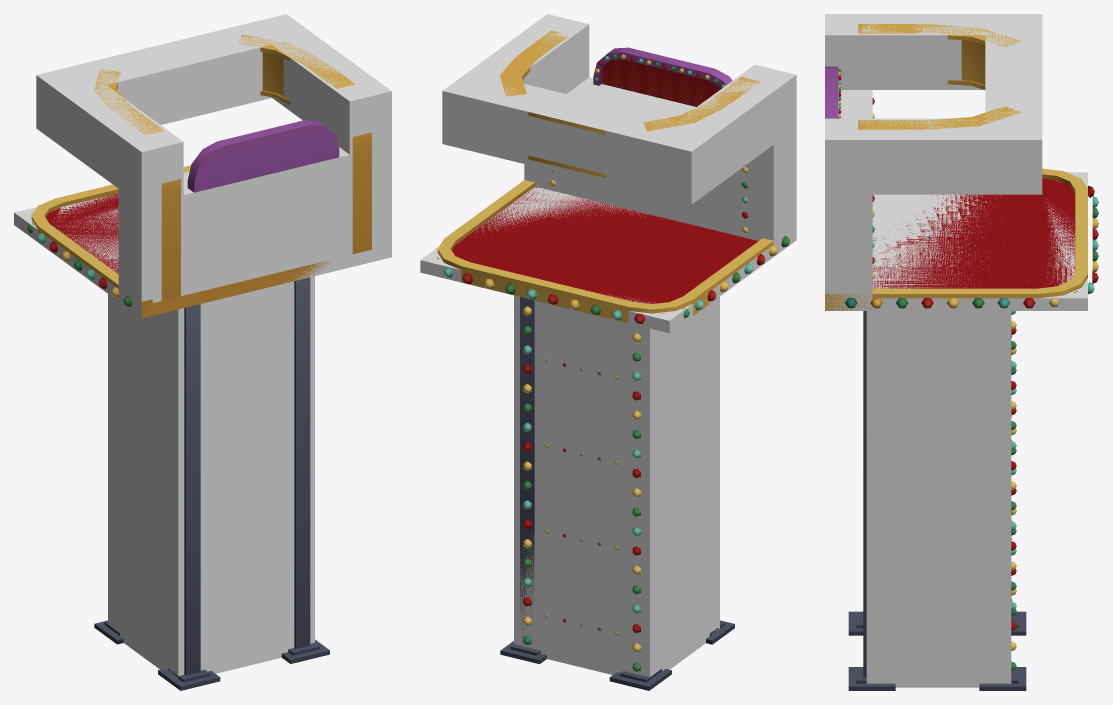
The model's file is squidgame_props_tower2.fbx.
3 renders of one model, left to right at view 1: azimuth 30°, elevation 25°; view 2: azimuth 150°, elevation 25°; view 3: azimuth 270°, elevation 25°, orthographic. The views are drawn at different scales.
Parts seen in each view (by area): view 1: squidgame_props_tower2_col, squidgame_props_tower2, squidgame_props_tower2_light; view 2: squidgame_props_tower2_col, squidgame_props_tower2, squidgame_props_tower2_light; view 3: squidgame_props_tower2_col, squidgame_props_tower2, squidgame_props_tower2_light.
Boxes of the visible parts, bbox=[...] form: squidgame_props_tower2_col: bbox=[14, 14, 391, 678]; squidgame_props_tower2: bbox=[31, 34, 371, 690]; squidgame_props_tower2_light: bbox=[27, 213, 131, 306]; squidgame_props_tower2_col: bbox=[420, 14, 796, 677]; squidgame_props_tower2: bbox=[437, 30, 773, 690]; squidgame_props_tower2_light: bbox=[435, 54, 789, 671]; squidgame_props_tower2_col: bbox=[825, 14, 1087, 687]; squidgame_props_tower2: bbox=[825, 24, 1087, 690]; squidgame_props_tower2_light: bbox=[838, 69, 1098, 670].
Bounding box in the file's own units: 5.79 × 11.87 × 5.11.
